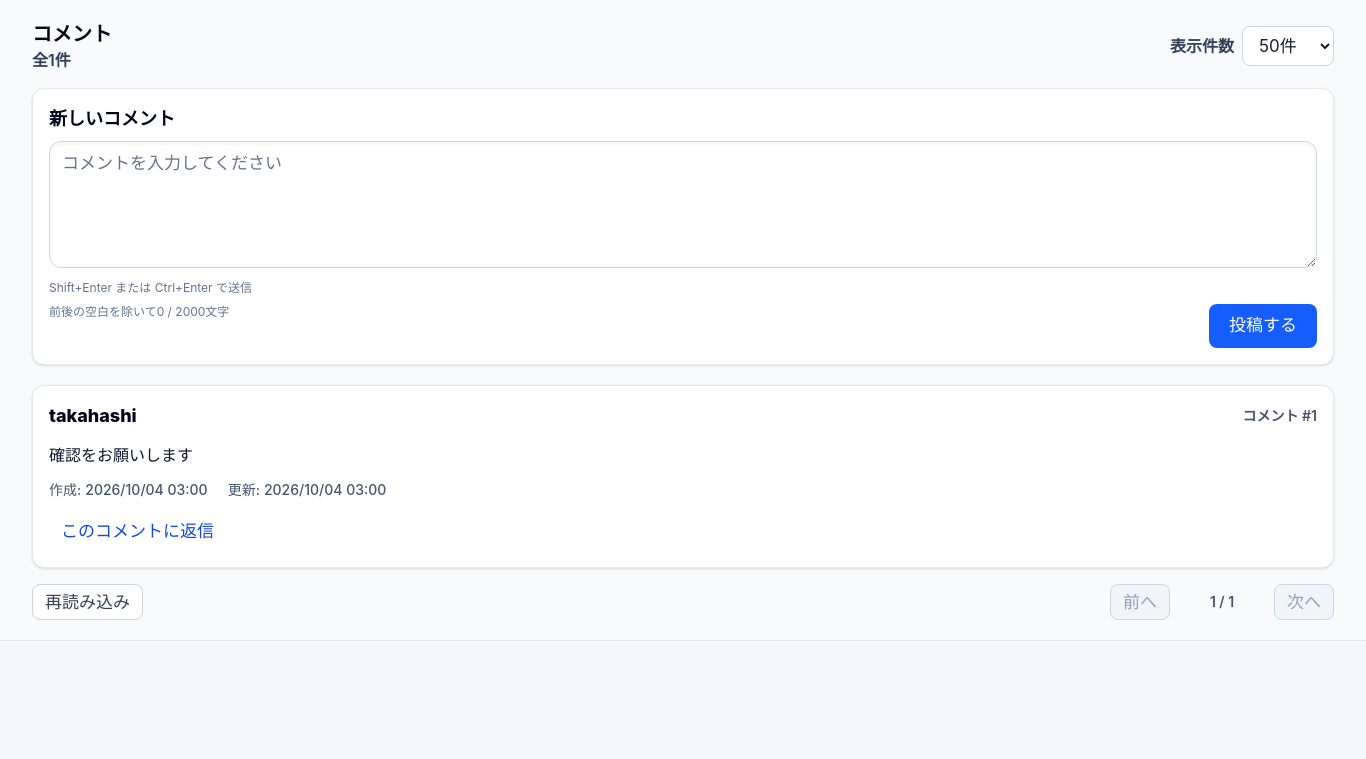
it: TaskCommentsPanel integration › コメントを表示して既存コメントへ返信できる
Expected: the text "確認をお願いします" is shown, [49,445,193,465]
Click the button "このコメントに返信" at (138, 532), box [49,512,226,551]
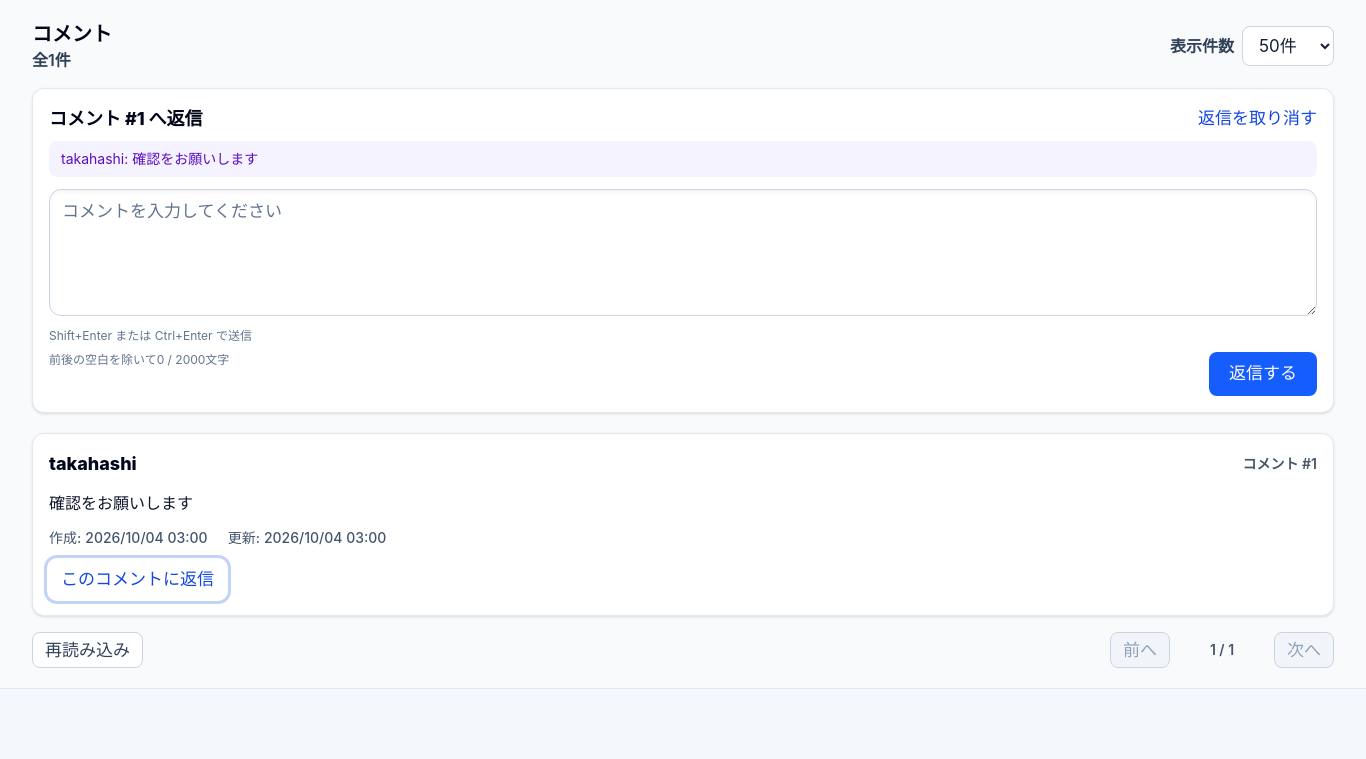
Type "確認しました" into the text box labelled "コメント #1 へ返信" at (683, 252), box [49,189,1317,316]
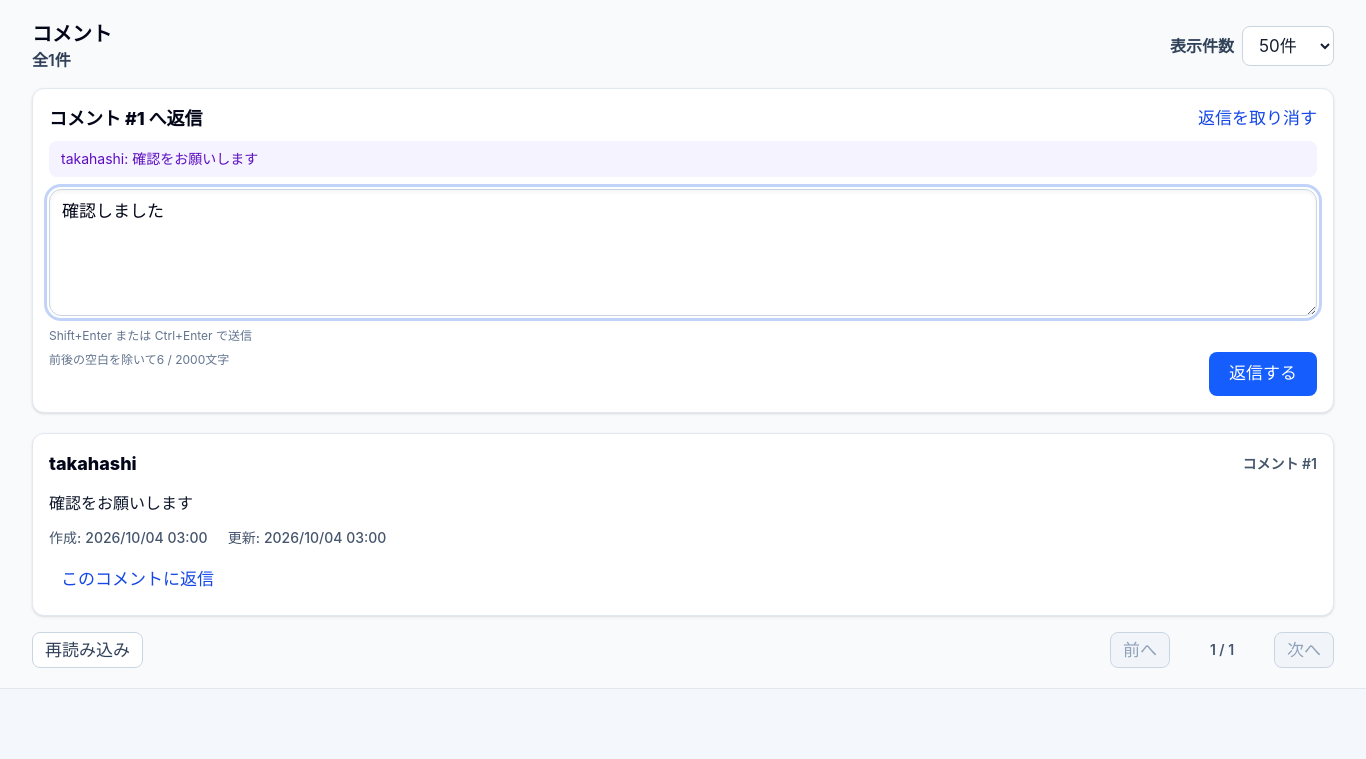
Click the button "返信する" at (1263, 374), box [1209,352,1317,396]
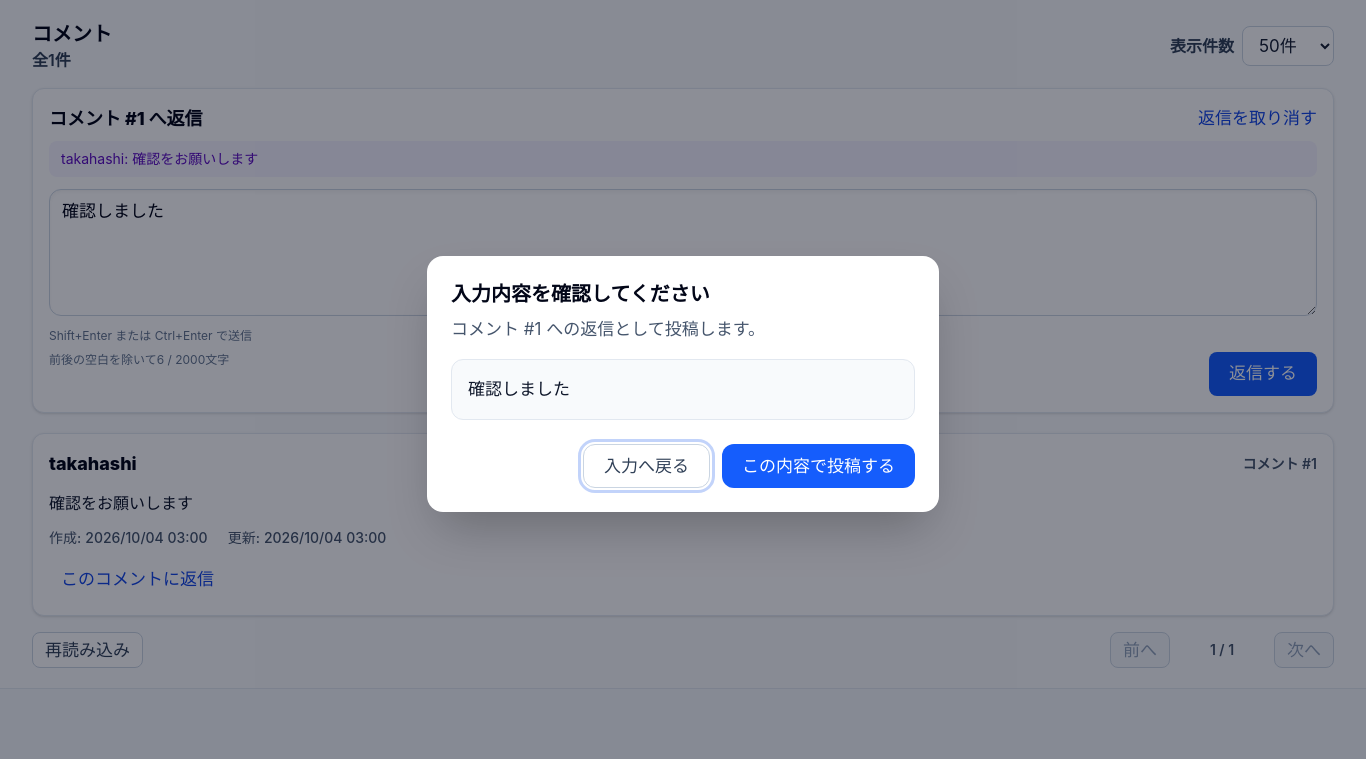
Now the dialog "入力内容を確認してください" shows "確認しました", box [468,379,570,399]
Click the button "この内容で投稿する" at (818, 466), box [722,444,915,488]
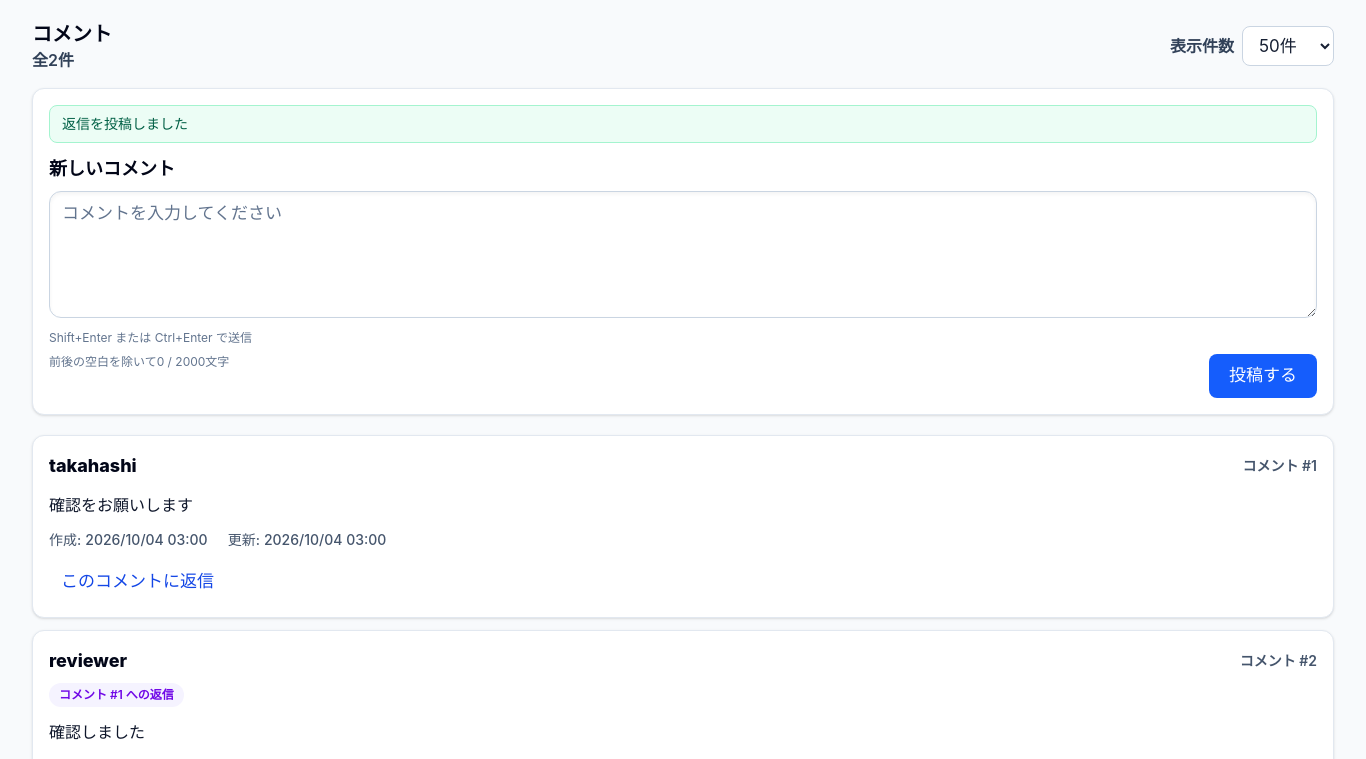
Now the text "確認しました" is shown, box [49,722,145,742]
Now the text "返信を投稿しました" is shown, box [49,105,1317,143]
